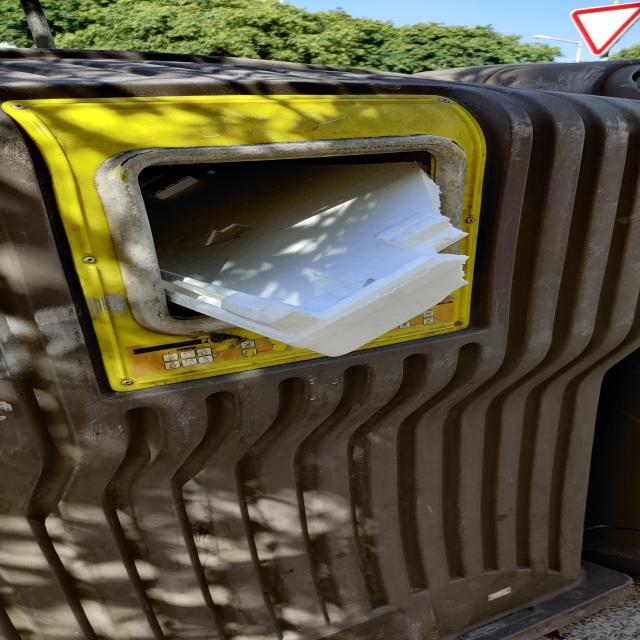litter: (150, 156, 470, 357)
